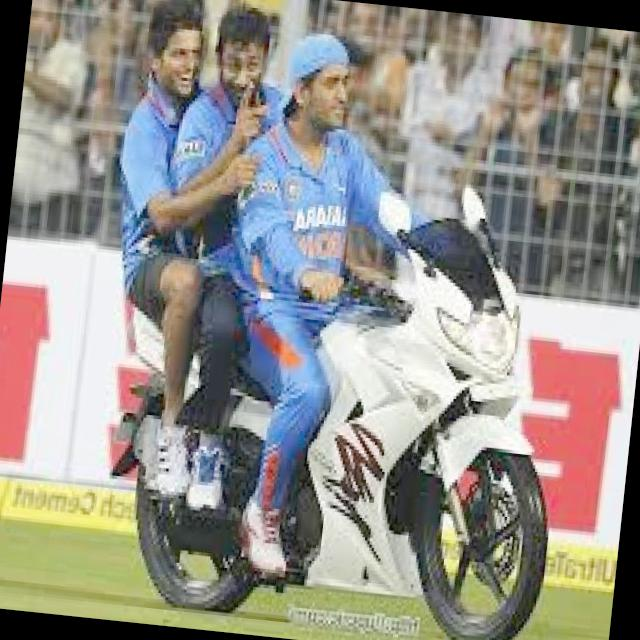motorcycle: (77, 145, 592, 640)
person: (195, 18, 410, 596), (78, 0, 253, 497), (136, 0, 291, 541)
rider_region: (67, 0, 604, 640)
